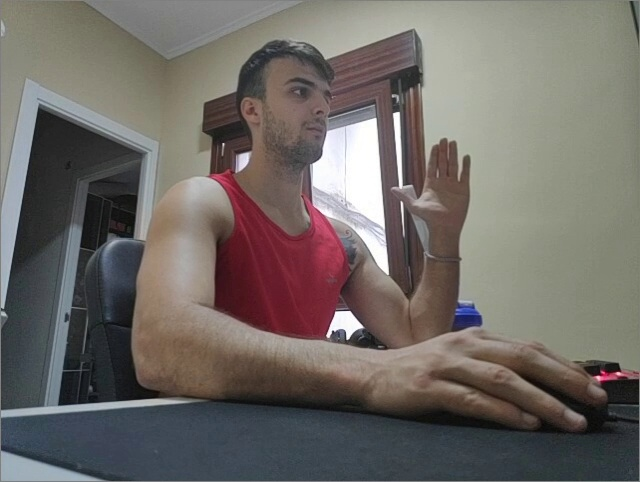Palm: (390, 136, 472, 229)
